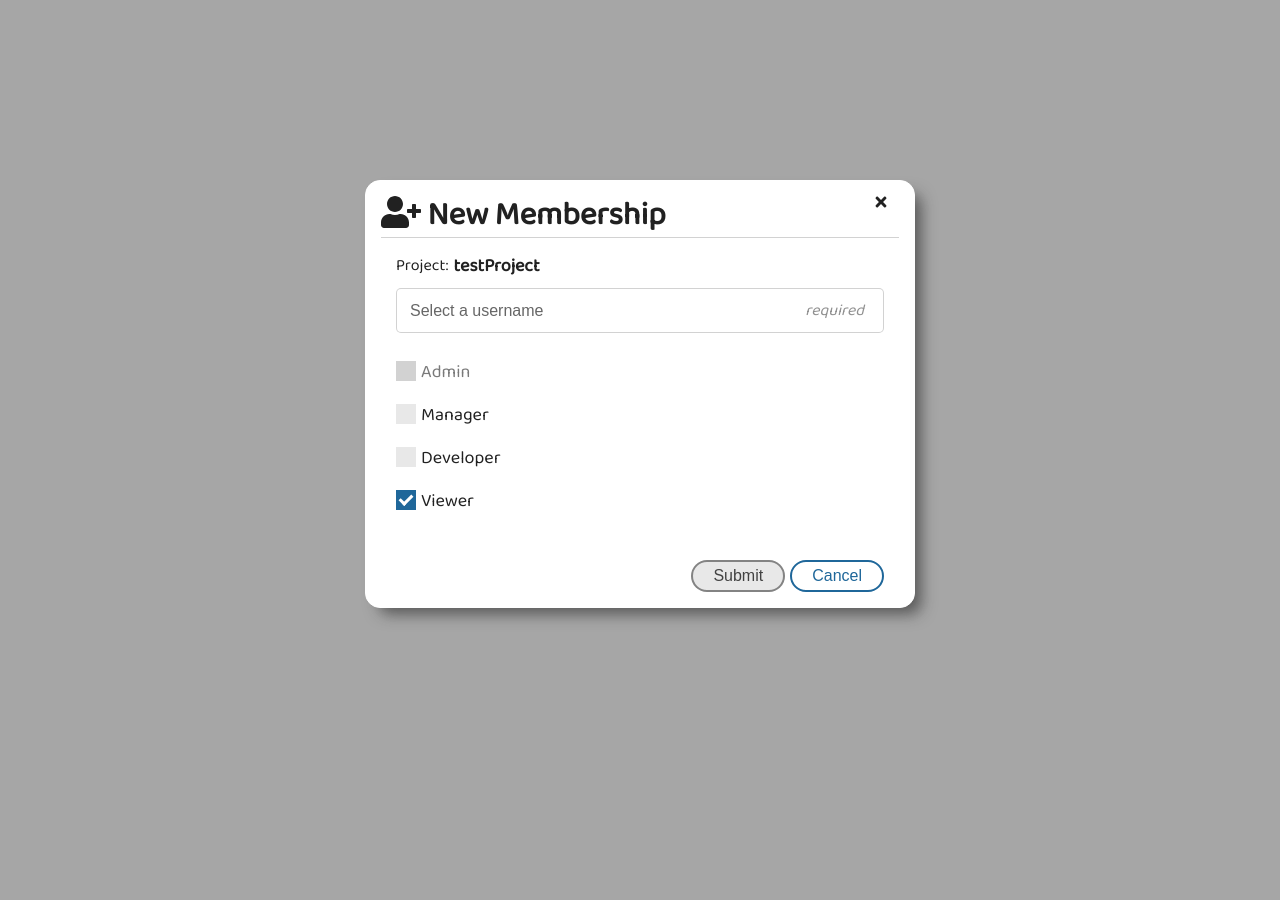
<MembershipModal /> › should validate that the username input is in availableUsers
This screenshot has width=1280, height=900.
Type "some value again" into the field with test id "membershipUsernameInput.input" at (640, 310), box [396,288,884,333]
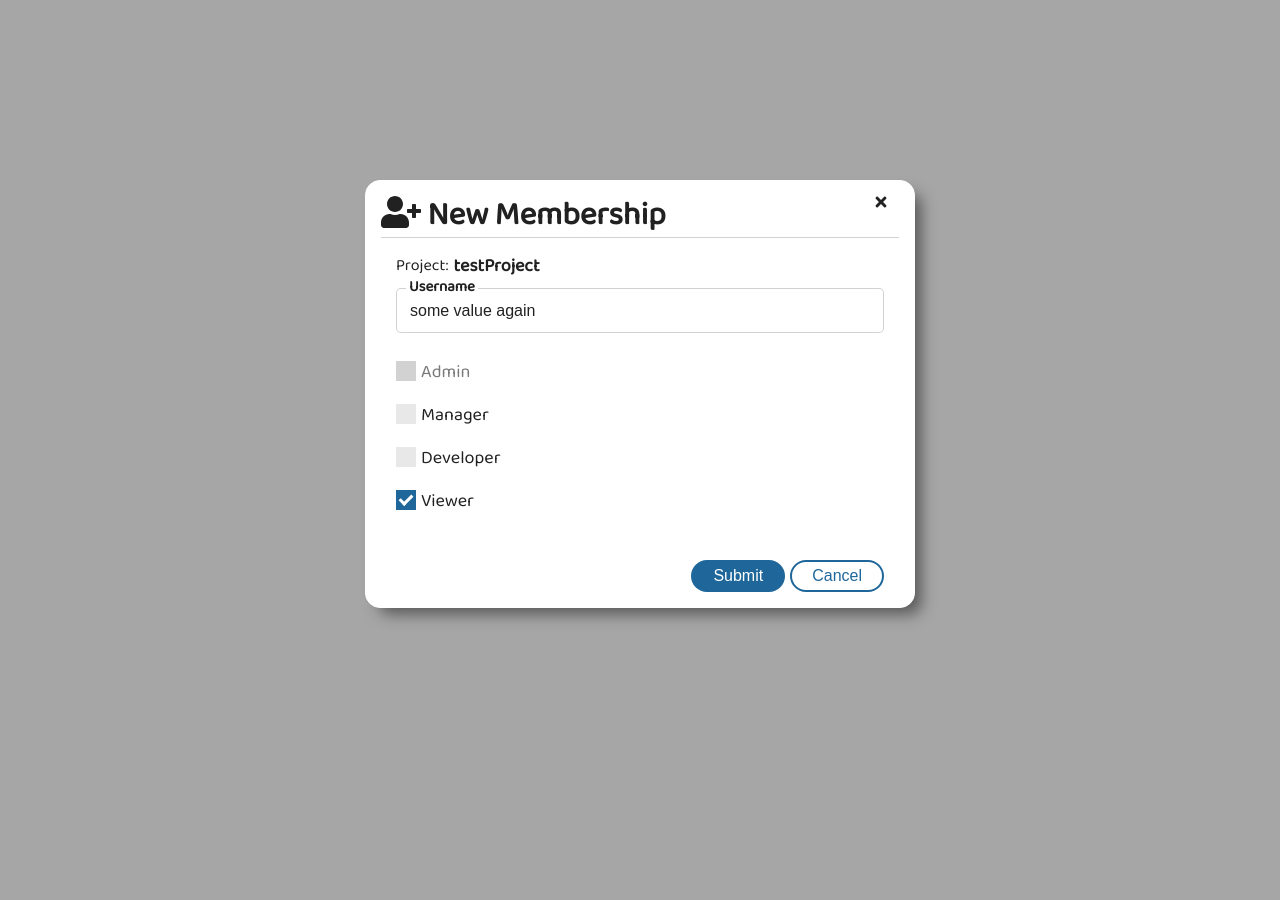
Expected: the text "username is invalid" is not shown
Click the button with test id "membershipModal.actions.primaryButton" at (738, 576), box [691,560,785,592]
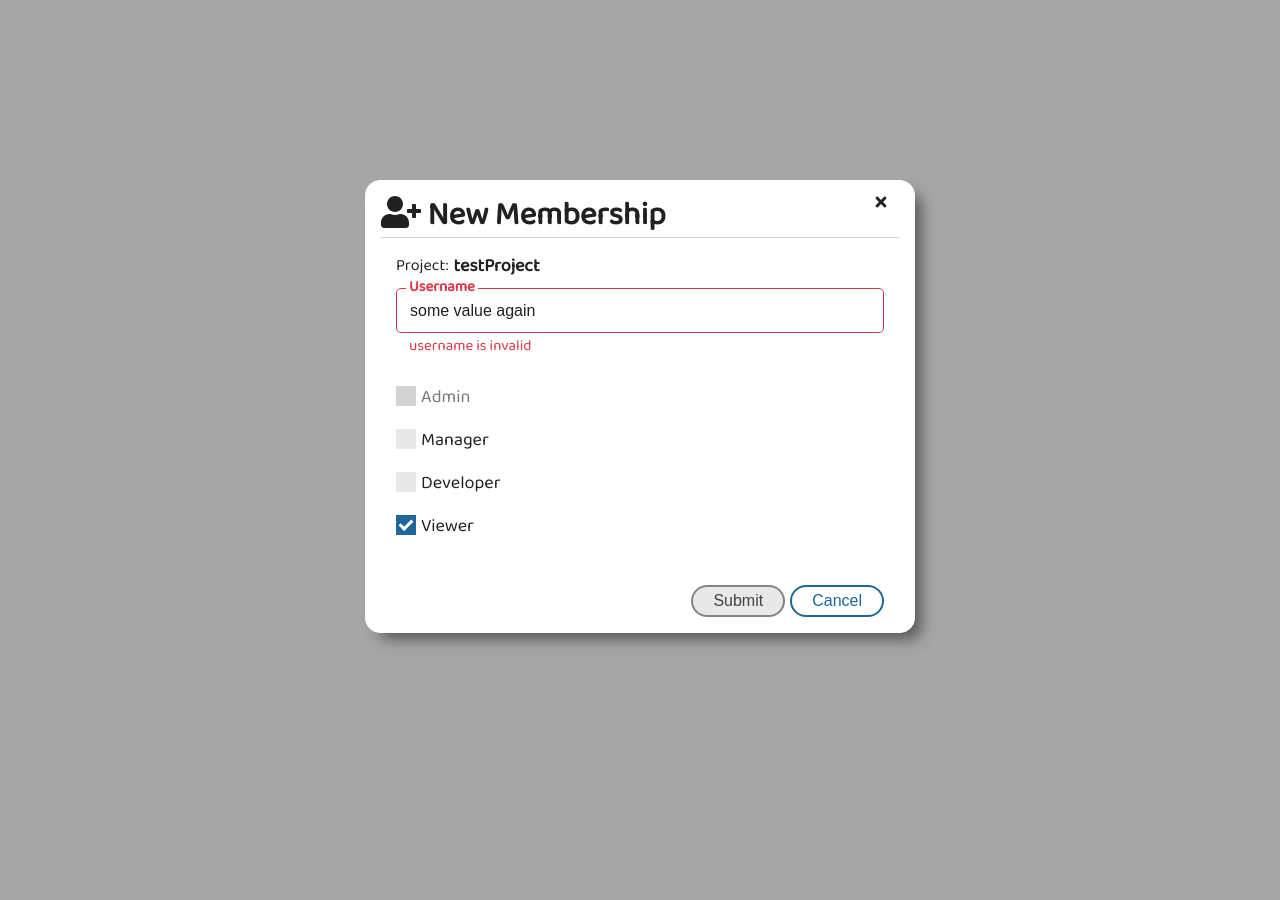
Expected: the text "username is invalid" is shown, [409,334,532,358]
